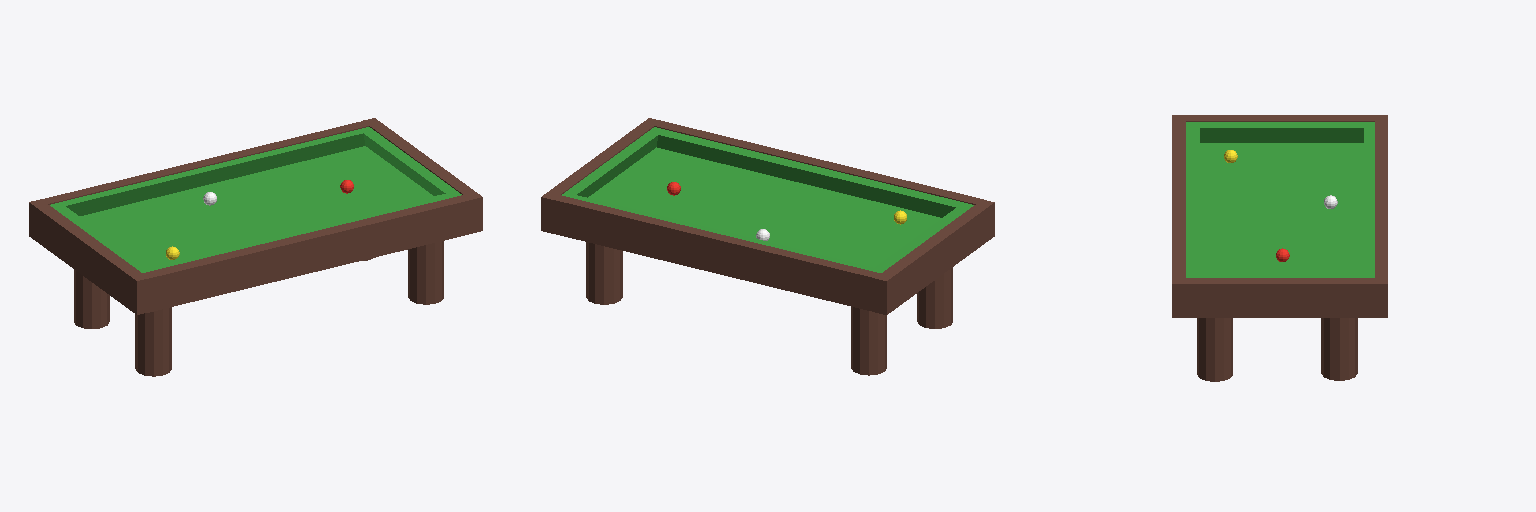
The picture shows the model from 3 angles: view 1: azimuth 30°, elevation 25°; view 2: azimuth 150°, elevation 25°; view 3: azimuth 270°, elevation 25°; orthographic projection.
Parts seen in each view (by area): view 1: group[number redacted], group[number redacted], group[number redacted], group[number redacted], group[number redacted], group[number redacted], group[number redacted], group[number redacted], group[number redacted], group[number redacted], group[number redacted], group[number redacted]; view 2: group[number redacted], group[number redacted], group[number redacted], group[number redacted], group[number redacted], group[number redacted], group[number redacted], group[number redacted], group[number redacted], group[number redacted], group[number redacted], group[number redacted]; view 3: group[number redacted], group[number redacted], group[number redacted], group[number redacted], group[number redacted], group[number redacted], group[number redacted], group[number redacted], group[number redacted], group[number redacted], group[number redacted].
Part boxes in pixels (x1,y1,x2,y2): group[number redacted]: (80, 146, 432, 265); group[number redacted]: (141, 192, 481, 312); group[number redacted]: (61, 127, 373, 215); group[number redacted]: (29, 199, 146, 314); group[number redacted]: (41, 121, 369, 204); group[number redacted]: (135, 307, 171, 376); group[number redacted]: (408, 241, 443, 304); group[number redacted]: (137, 194, 450, 272); group[number redacted]: (363, 131, 461, 197); group[number redacted]: (74, 270, 109, 328); group[number redacted]: (363, 118, 482, 230); group[number redacted]: (50, 202, 146, 268); group[number redacted]: (588, 147, 941, 267); group[number redacted]: (552, 195, 881, 311); group[number redacted]: (657, 130, 973, 217); group[number redacted]: (875, 200, 994, 314); group[number redacted]: (645, 118, 983, 204); group[number redacted]: (851, 307, 886, 375); group[number redacted]: (586, 242, 622, 304); group[number redacted]: (566, 127, 664, 197); group[number redacted]: (541, 118, 653, 233); group[number redacted]: (917, 267, 952, 328); group[number redacted]: (562, 192, 872, 270); group[number redacted]: (871, 208, 966, 272); group[number redacted]: (1200, 143, 1363, 273); group[number redacted]: (1172, 278, 1387, 317); group[number redacted]: (1200, 122, 1374, 142); group[number redacted]: (1172, 120, 1185, 282); group[number redacted]: (1321, 318, 1357, 380); group[number redacted]: (1197, 318, 1232, 381); group[number redacted]: (1186, 122, 1199, 273); group[number redacted]: (1375, 120, 1387, 278); group[number redacted]: (1364, 128, 1374, 277); group[number redacted]: (1172, 115, 1387, 121); group[number redacted]: (1186, 274, 1363, 277).
Bounding box in the file's own units: 3.4 × 1.06 × 1.84.